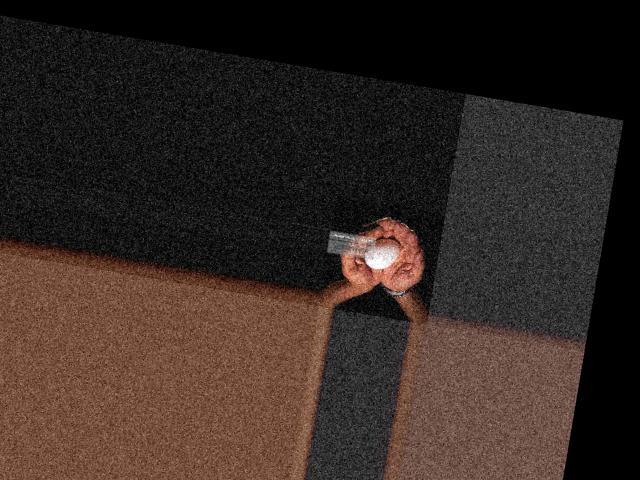egg: (364, 234, 402, 271)
